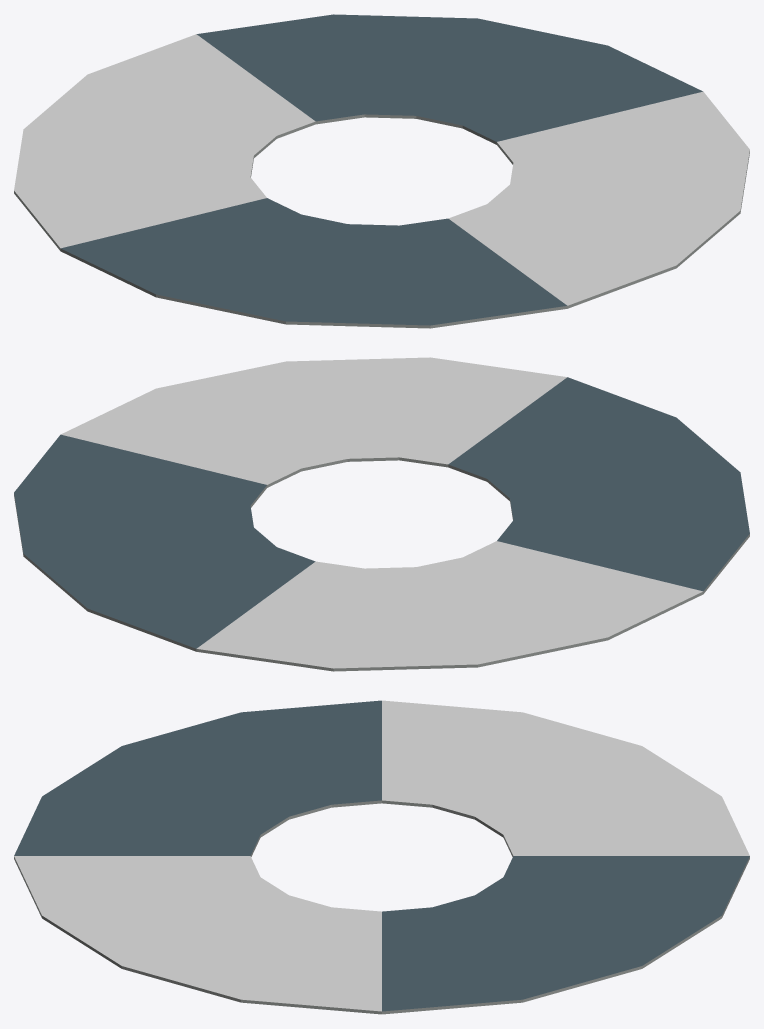
The picture shows the model from 3 angles, top to bottom: view 1: azimuth 30°, elevation 25°; view 2: azimuth 150°, elevation 25°; view 3: azimuth 270°, elevation 25°; orthographic projection.
Visible parts, largest first — view 1: world; view 2: world; view 3: world.
Part boxes in pixels (x1,y1,x2,y2): world: (14,14,749,328); world: (14,357,749,671); world: (14,700,749,1014).
Size of the model in its own units: 0.0224 by 0.0001 by 0.0224.
